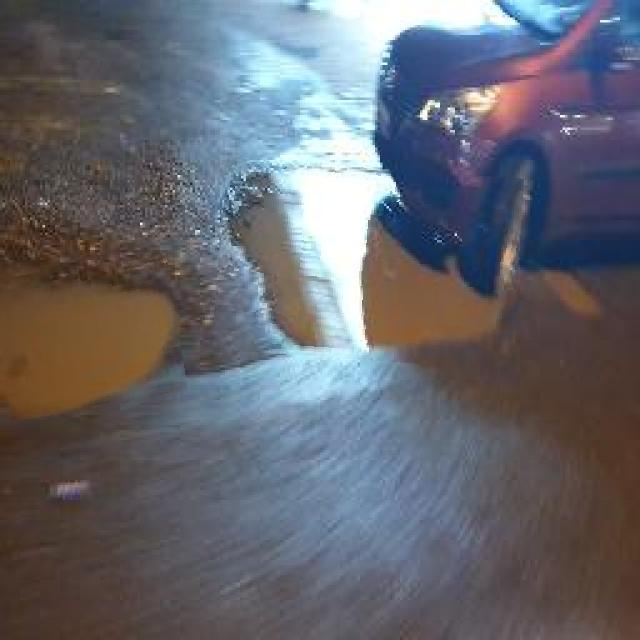puddle: (216, 164, 522, 366), (1, 259, 185, 415)
